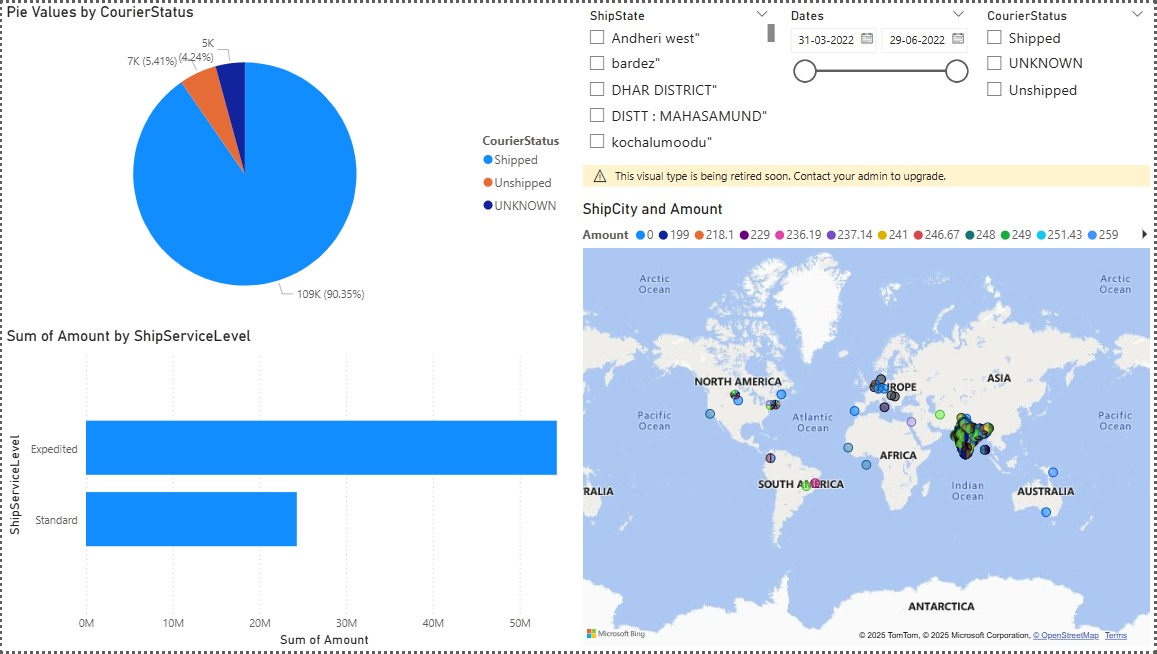

The dashboard page shown, as its layout file describes it:
{"tool":"powerbi","page":{"name":"Page 3","canvas":[1280,720],"ordinal":2},"visuals":[{"type":"pieChart","fields":{"Category":["SalesData.CourierStatus"],"Y":["SalesData.Pie Values"]},"box":[0,0,640,360],"z":0},{"type":"clusteredBarChart","fields":{"Category":["SalesData.ShipServiceLevel"],"Y":["Sum(SalesData.Amount)"]},"box":[0,360,640,360],"z":1000},{"type":"map","fields":{"Category":["SalesData.ShipCity"],"Series":["SalesData.Amount"]},"box":[640,180,640,540],"z":2000},{"type":"slicer","fields":{"Values":["SalesData.ShipState"]},"box":[640,0,223.3,180],"z":2001},{"type":"slicer","fields":{"Values":["SalesData.Dates"]},"box":[863.3,0,218.3,180],"z":2002},{"type":"slicer","fields":{"Values":["SalesData.CourierStatus"]},"box":[1081,0,199,180],"z":2003}]}

Visuals, with their boxes in screenshot pixels (x1, y1, x2, y2), scaled from the page's 1280x720 canvas onto the 1157x654 screenshot:
pieChart - SalesData.CourierStatus x SalesData.Pie Values: 0:0:578:327
clusteredBarChart - SalesData.ShipServiceLevel x Sum(SalesData.Amount): 0:327:578:653
map - SalesData.ShipCity x SalesData.Amount: 578:164:1156:653
slicer - SalesData.ShipState: 578:0:780:164
slicer - SalesData.Dates: 780:0:978:164
slicer - SalesData.CourierStatus: 977:0:1156:164
